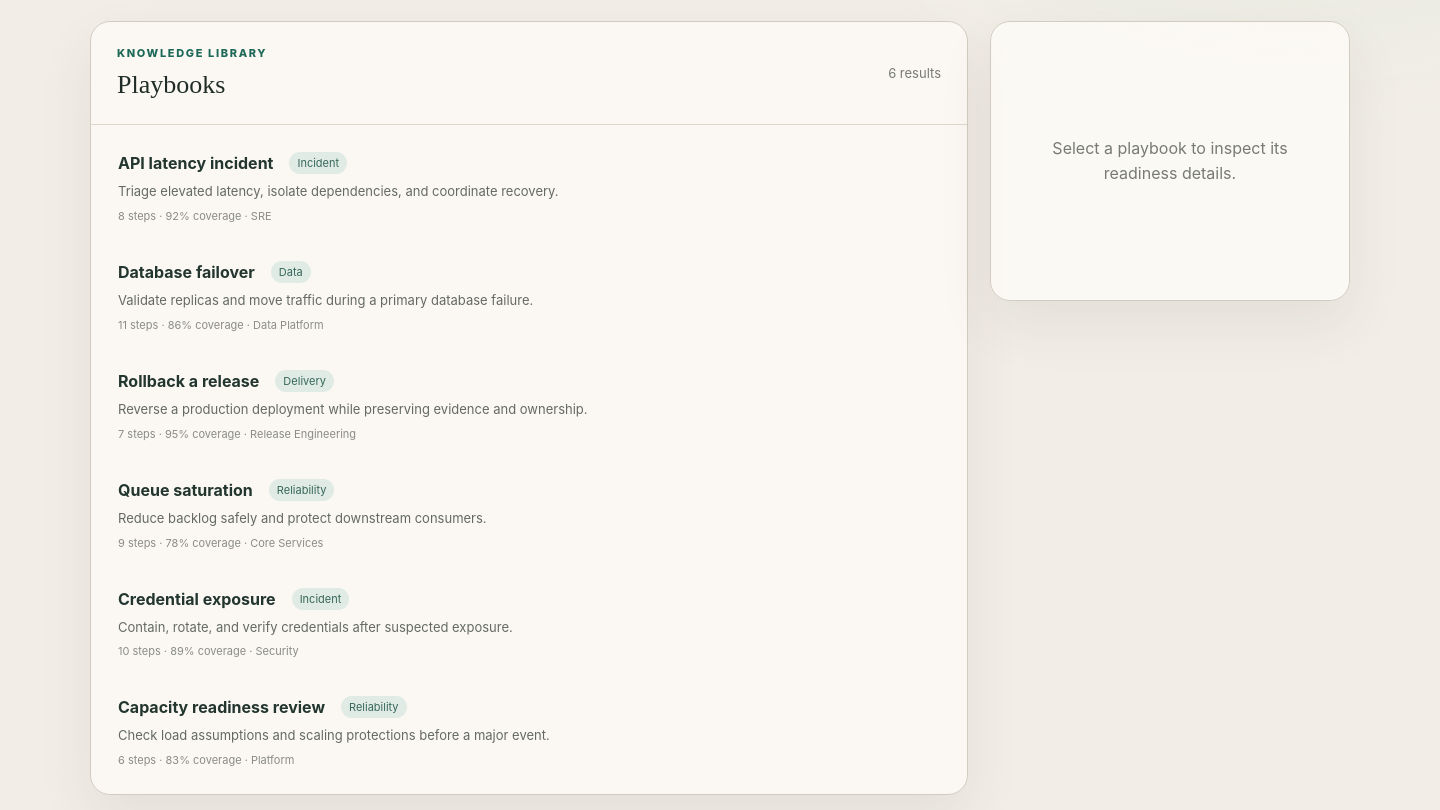
Test: Foundation Playbook Finder › opens a playbook detail panel
(page scrolled)
Click the button "Rollback a release" at (529, 405), box [99,351,959,460]
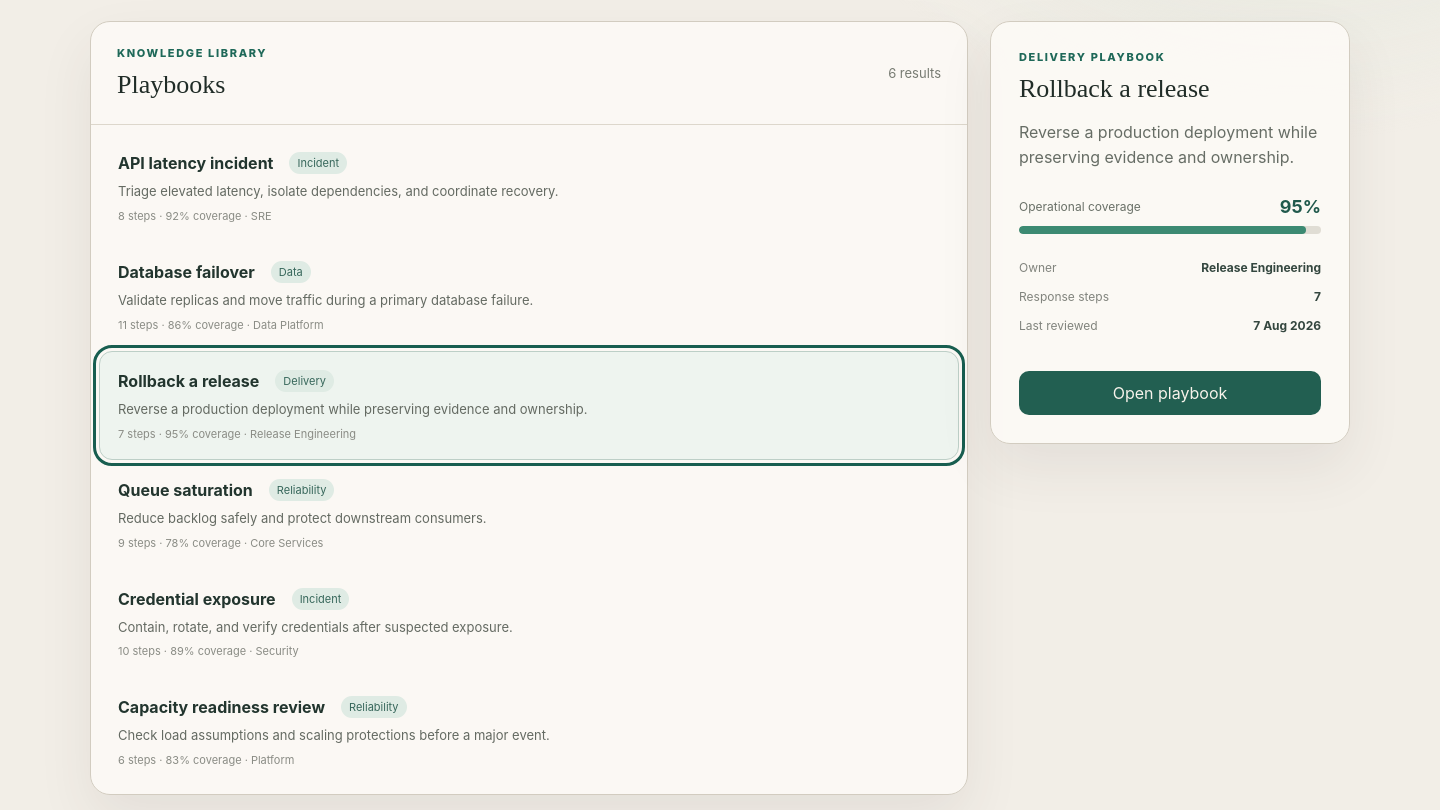
Now the heading "Rollback a release" is shown, box [1019,74,1210,103]
Now the text "Release Engineering" is shown, box [1201,260,1321,275]
